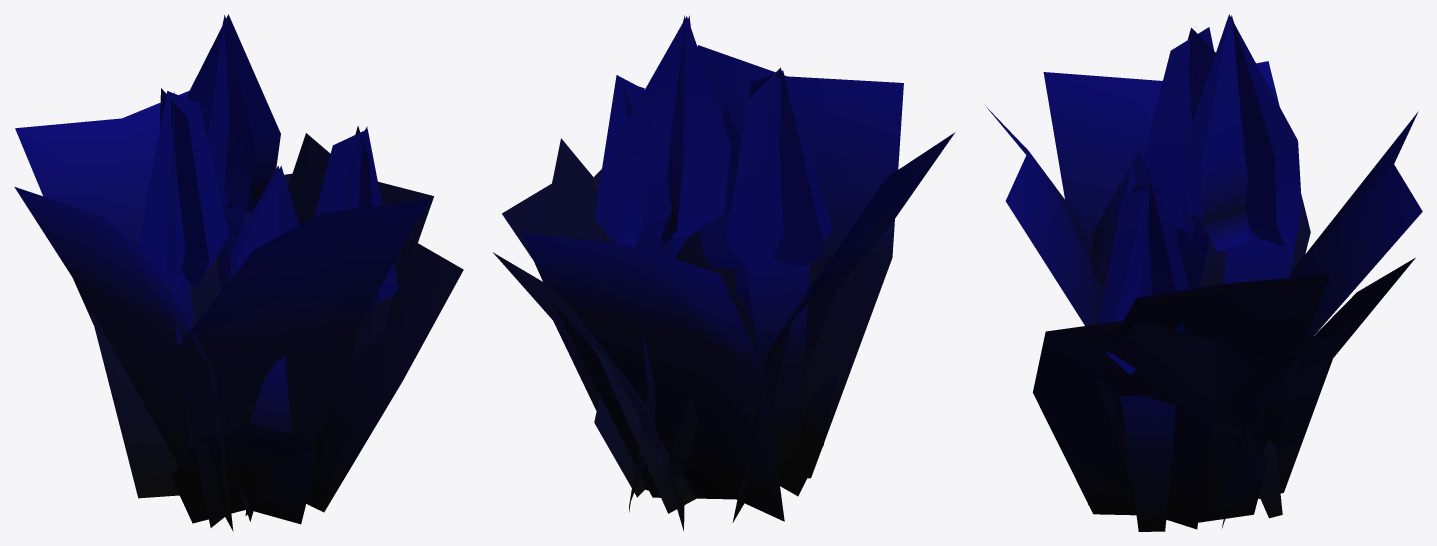
Rendered from SM_Foliage_ReedC_02.fbx.
3 renders of one model, left to right at view 1: azimuth 30°, elevation 25°; view 2: azimuth 150°, elevation 25°; view 3: azimuth 270°, elevation 25°, orthographic. The views are drawn at different scales.
Visible parts, largest first — view 1: SM_Foliage_ReedC_02; view 2: SM_Foliage_ReedC_02; view 3: SM_Foliage_ReedC_02.
Boxes of the visible parts, <box> form: SM_Foliage_ReedC_02: <box>14,14,463,531</box>; SM_Foliage_ReedC_02: <box>493,15,955,531</box>; SM_Foliage_ReedC_02: <box>986,14,1422,531</box>.
Bounding box in the file's own units: 87.39 × 87.45 × 108.
